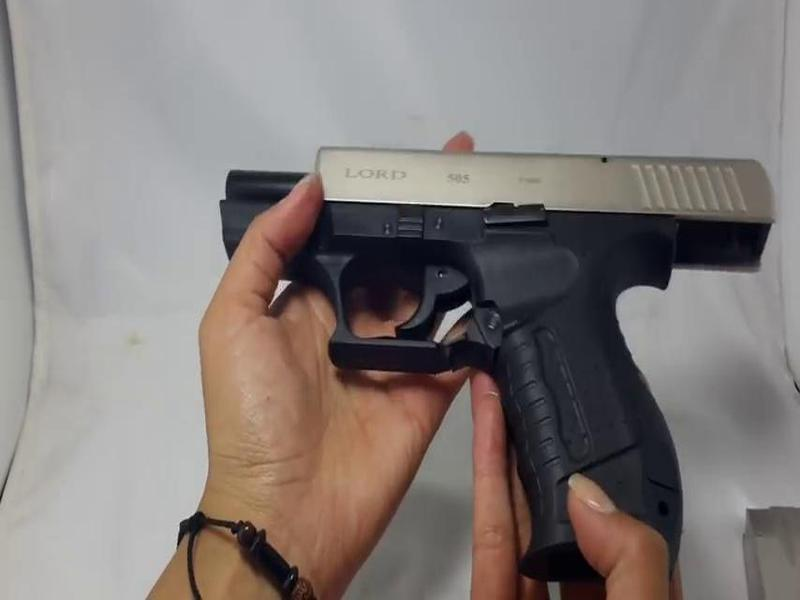Pistola: (209, 118, 761, 561)
